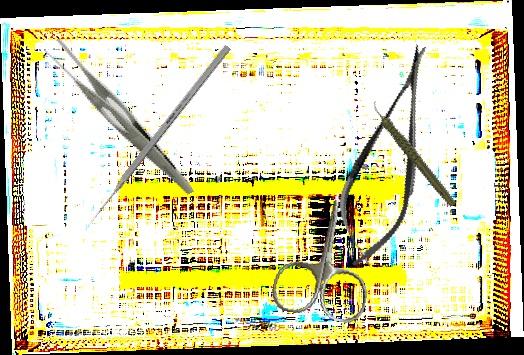Dressing Forceps: (42, 14, 194, 224)
Handpiece: (370, 87, 458, 219)
Iris Scissors: (268, 184, 386, 326)
Micro Scissor: (320, 36, 459, 276)
Pusher: (83, 44, 232, 230)
